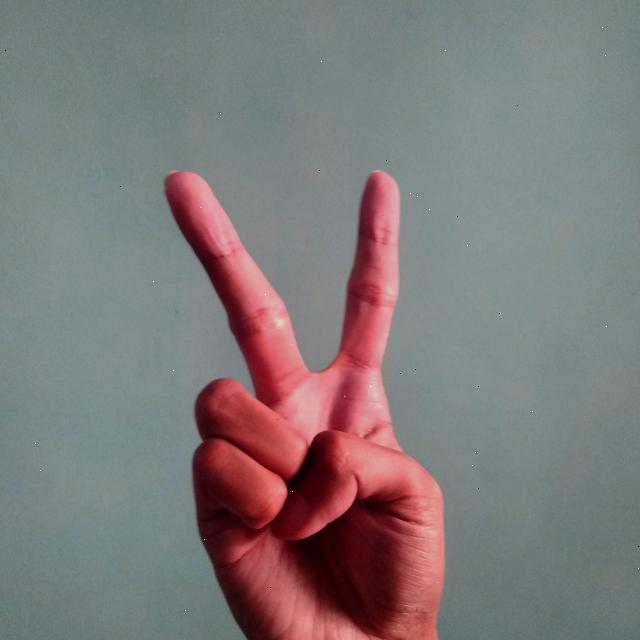V: (149, 159, 446, 640)
